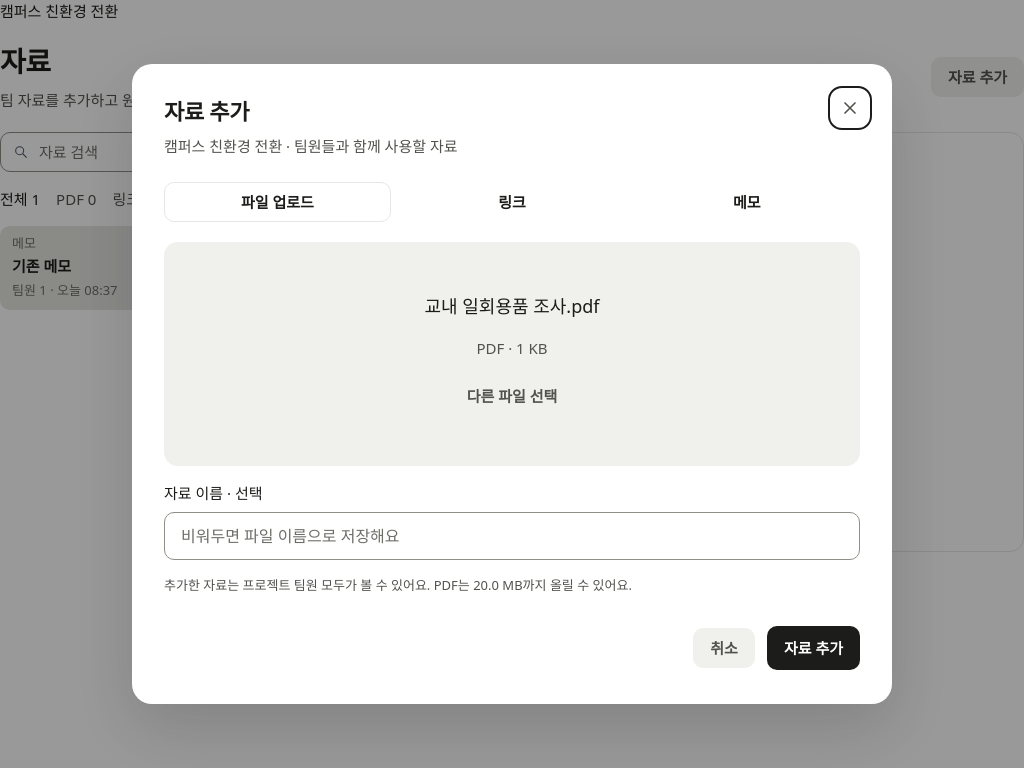
it: 업로드 실패는 다시 올리고 분석 실패는 자료에 남아 따로 안내한다
The image size is (1024, 768).
Earlier steps of the test are not shown.
Click the button "자료 추가". click: (813, 648)
box: [767,626,860,670]
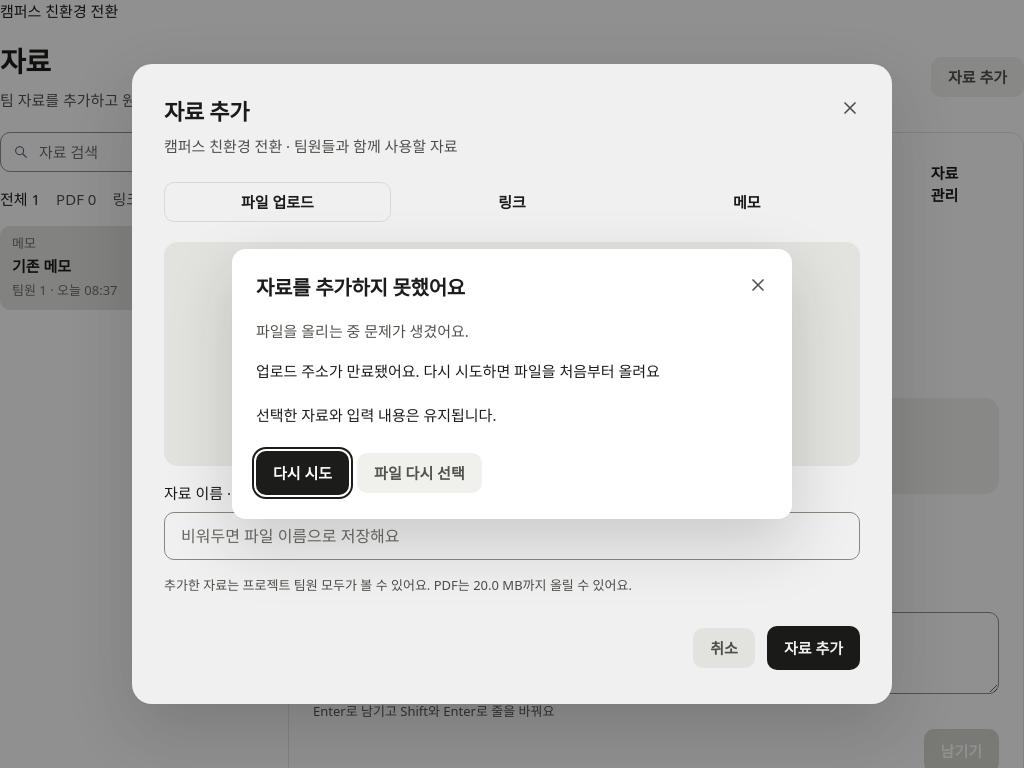
Result: the text "업로드 주소가 만료됐어요. 다시 시도하면 파일을 처음부터 올려요" is shown at [256,361,660,381]
Click the button "다시 시도". click: (303, 473)
box: [256,451,349,495]
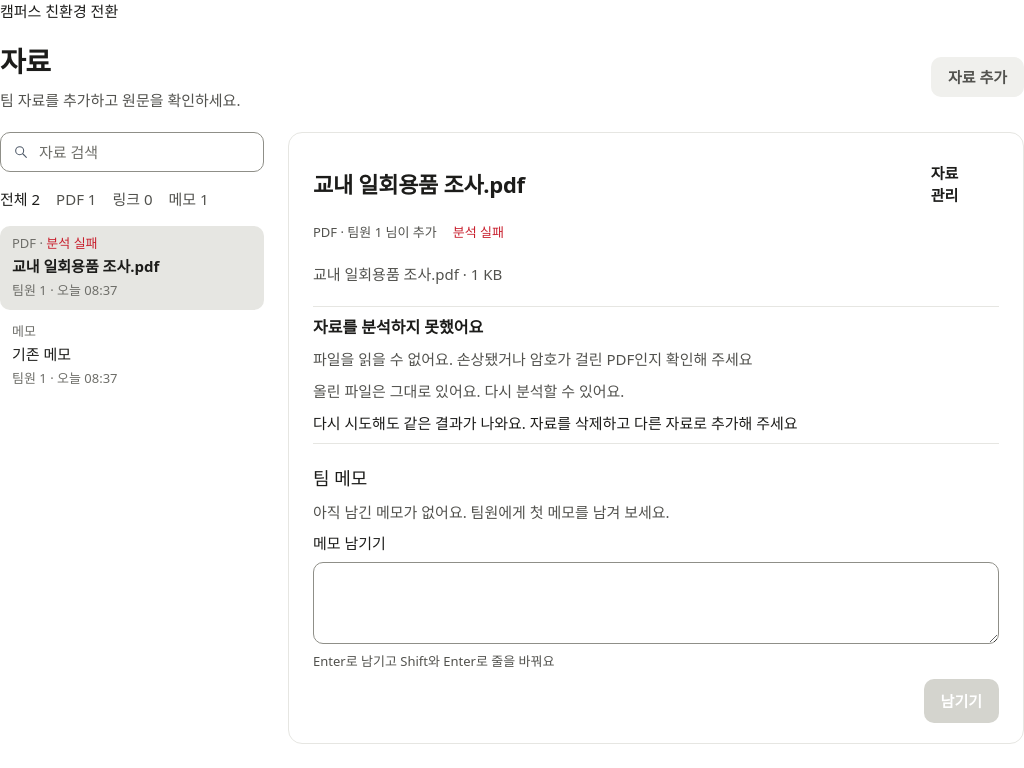
Result: the text "자료를 분석하지 못했어요" is shown at [313,316,483,338]
Result: the text "파일을 읽을 수 없어요. 손상됐거나 암호가 걸린 PDF인지 확인해 주세요" is shown at [313,349,752,369]
